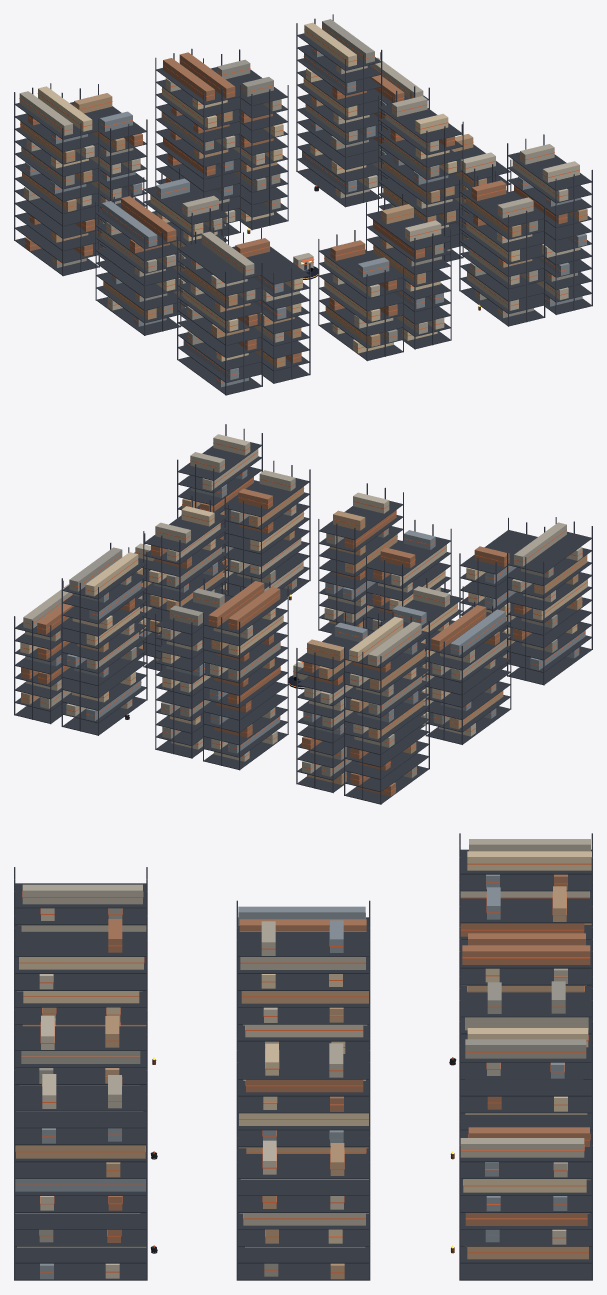
3 renders of one model, top to bottom at view 1: azimuth 30°, elevation 25°; view 2: azimuth 150°, elevation 25°; view 3: azimuth 270°, elevation 25°, orthographic. The views are drawn at different scales.
Parts seen in each view (by area): view 1: district_city_vertical.lod1; view 2: district_city_vertical.lod1; view 3: district_city_vertical.lod1.
Part boxes in pixels (x1,y1,x2,y2): district_city_vertical.lod1: (14, 14, 592, 395); district_city_vertical.lod1: (14, 424, 592, 804); district_city_vertical.lod1: (14, 833, 592, 1280).
Bounding box in the file's own units: 96.2 × 37.19 × 96.2.
